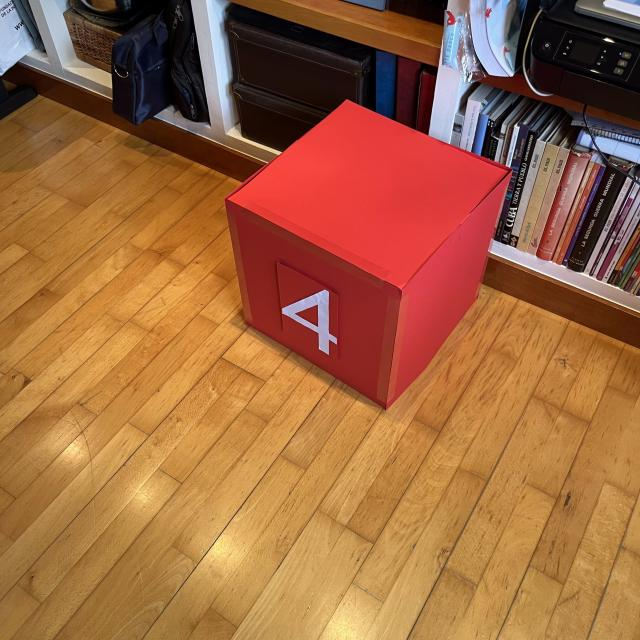box: (223, 97, 514, 411)
